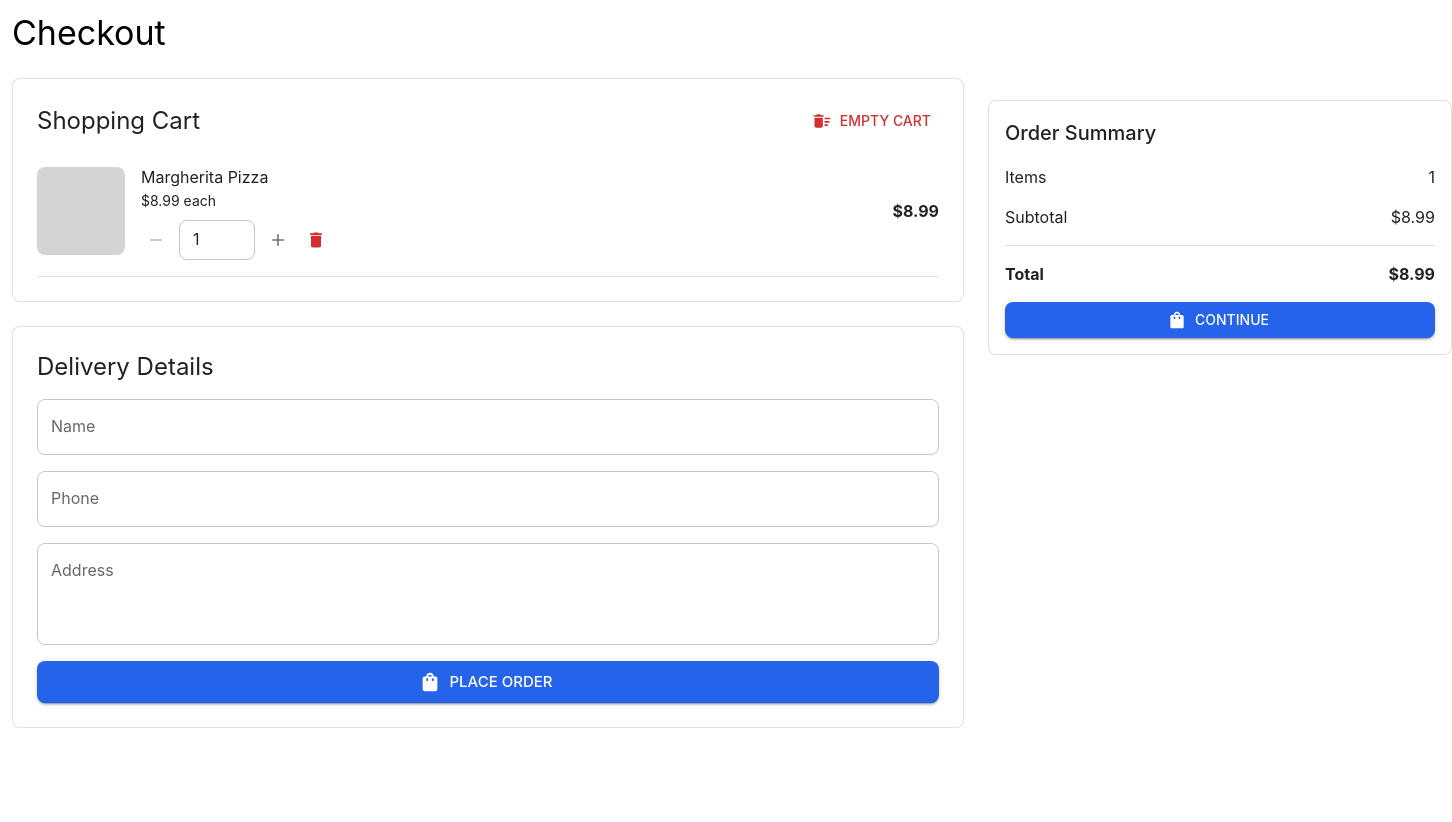
Test: CheckoutPage › submits an order and shows the success screen
Type "Ankit Sharma" into the field labelled "Name" at (488, 426), box [37, 398, 939, 454]
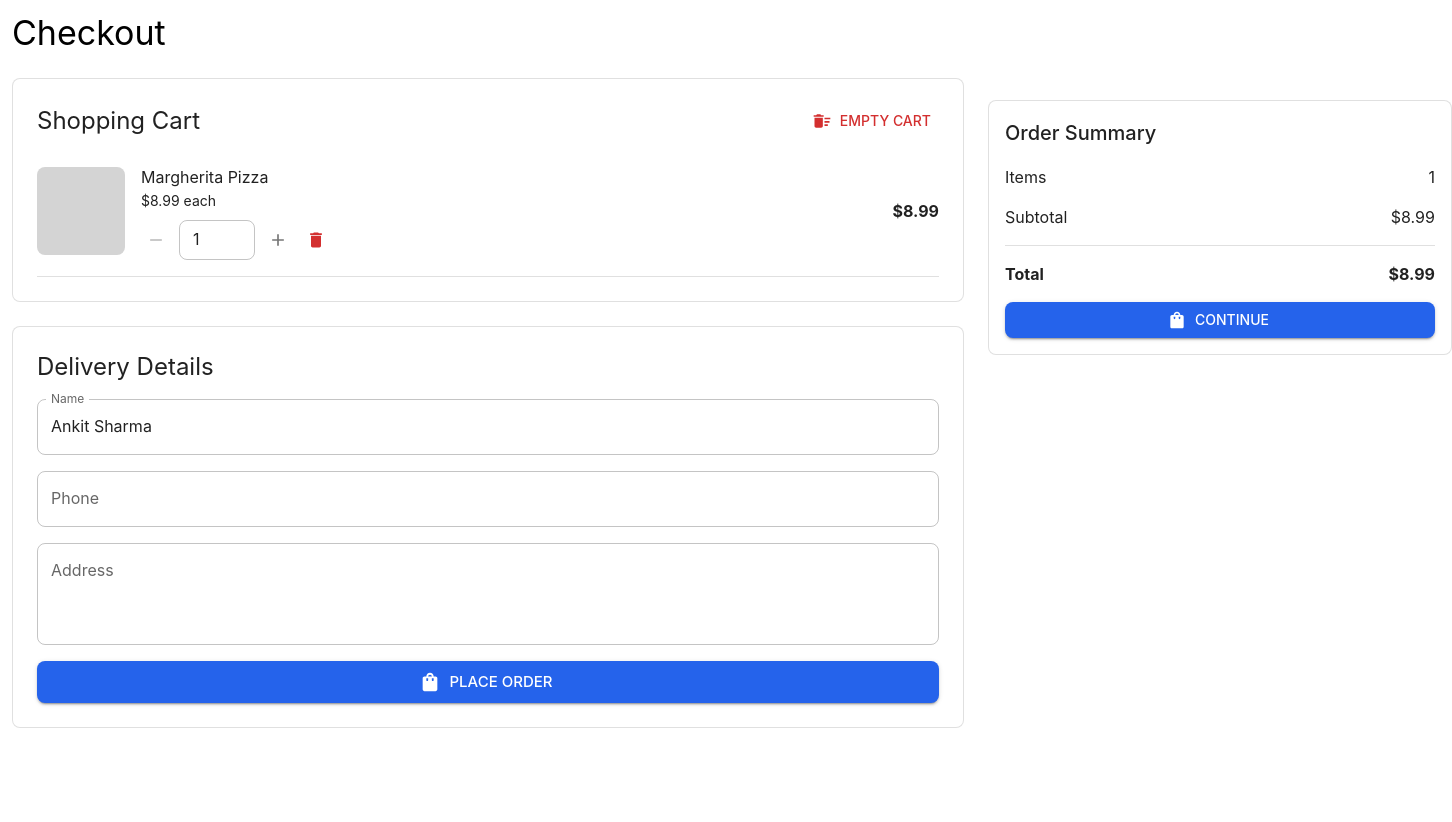
Type "(415) 555-2671" into the field labelled "Phone" at (488, 498), box [37, 470, 939, 526]
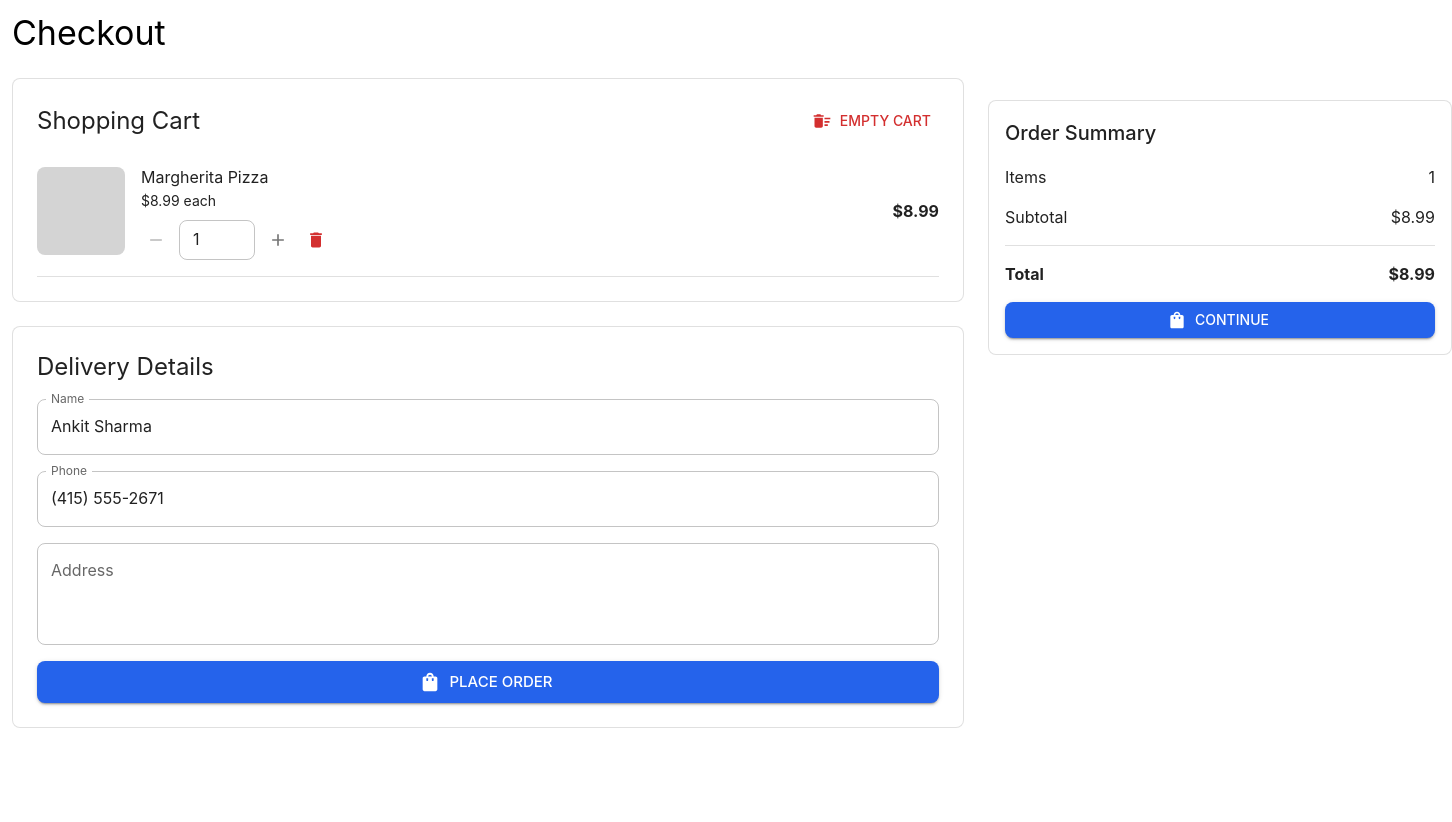
Type "123 Main Street, Bengaluru" into the text box labelled "Address" at (488, 594), box [51, 559, 925, 628]
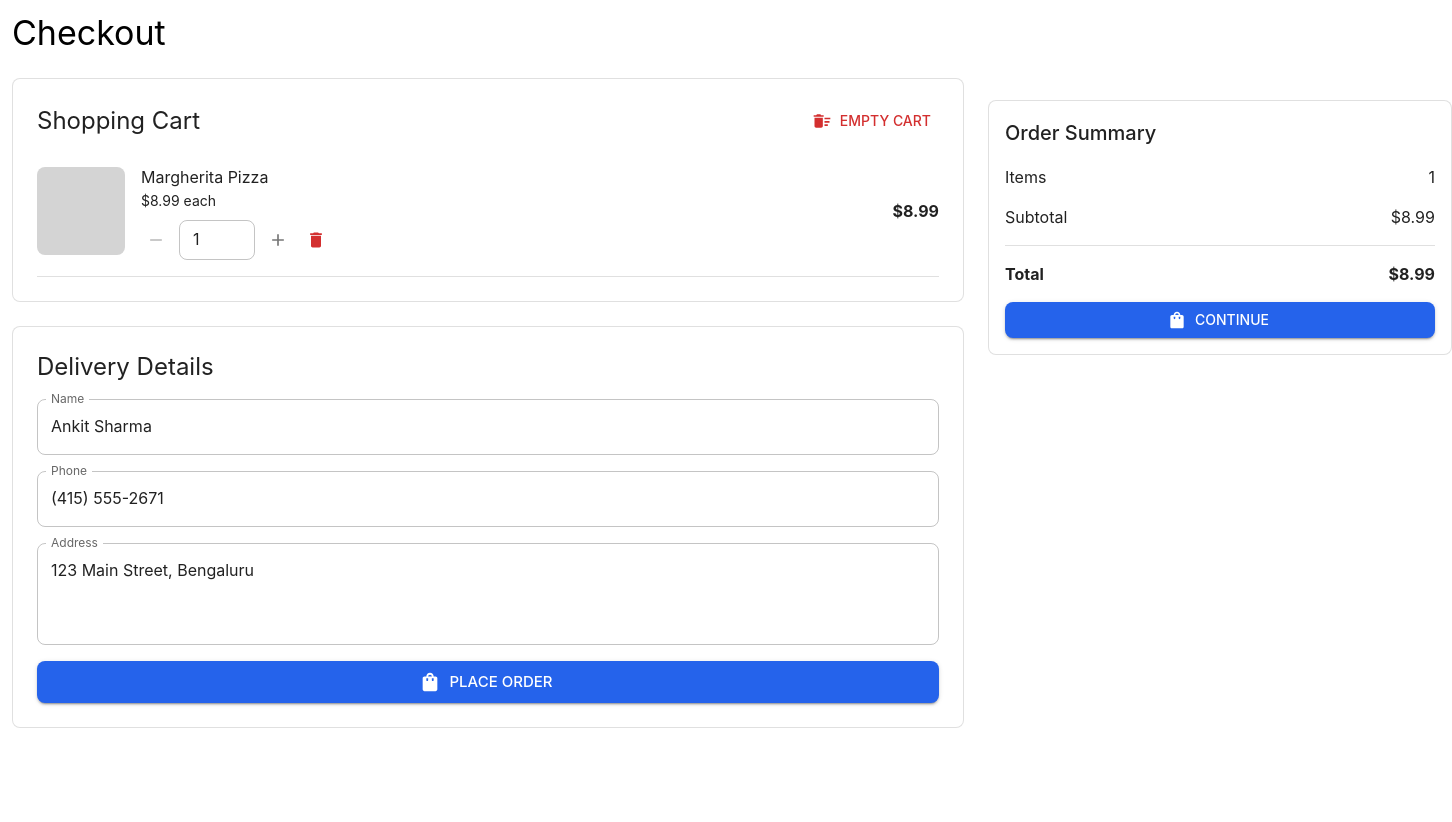
Click the button "Place Order" at (488, 682), box [37, 660, 939, 703]
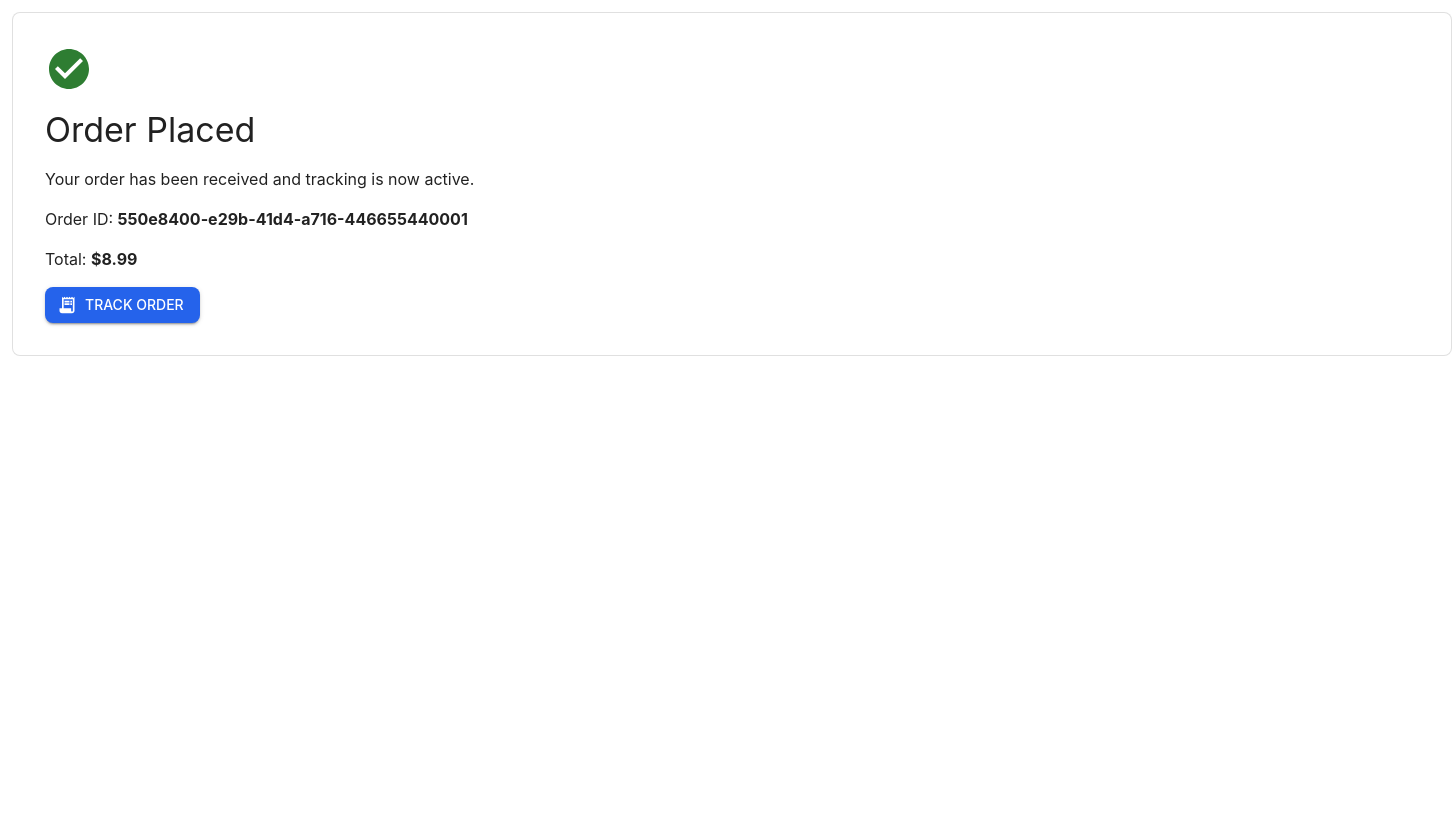
Now the heading "Order Placed" is shown, box [45, 109, 255, 151]
